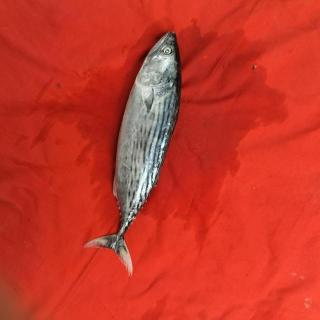Ikan: (99, 27, 189, 273)
